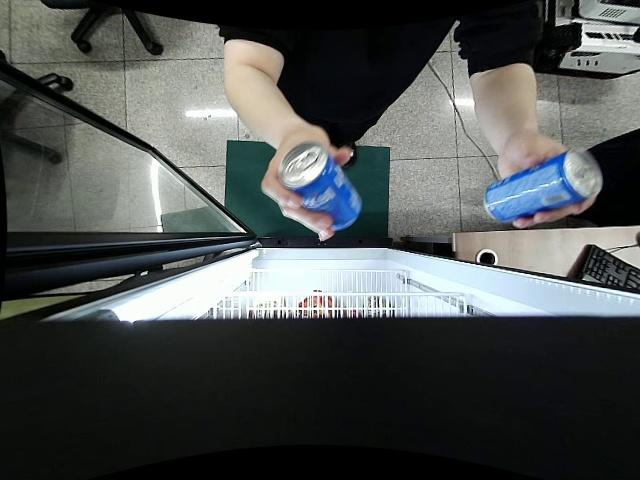00_hand: (260, 125, 356, 243), (498, 127, 595, 229)
15_letsbe: (484, 146, 603, 222), (278, 142, 362, 233)
